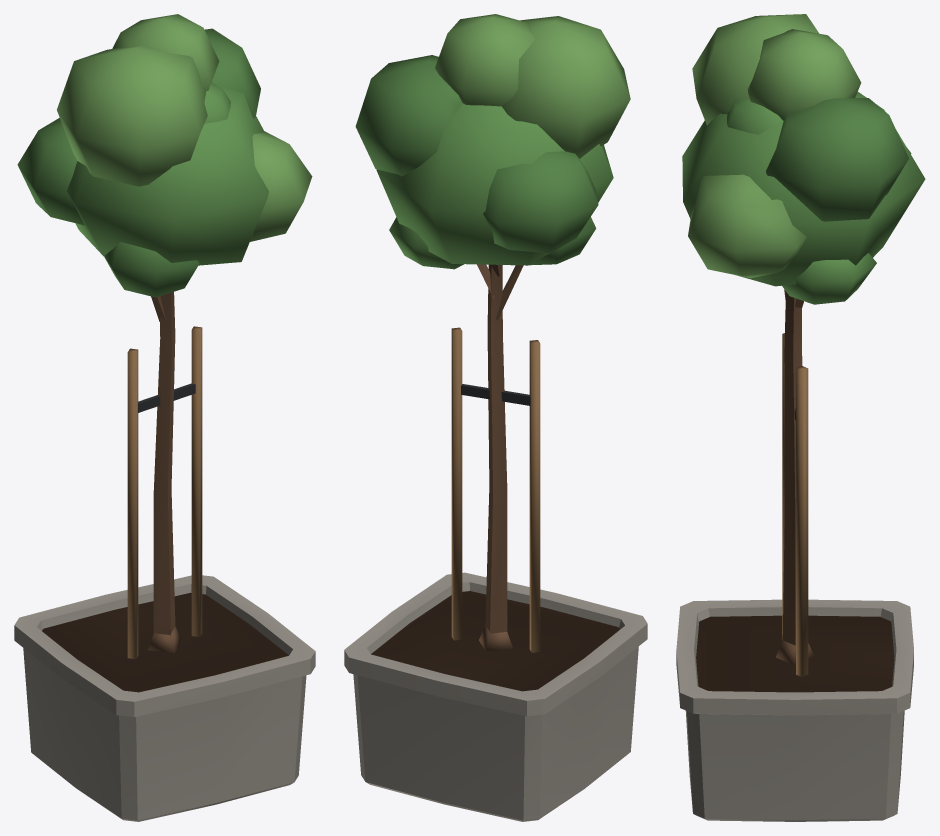
Rendered from planter.far.glb.
3 views of the same model, side by side, from view 1: azimuth 30°, elevation 25°; view 2: azimuth 150°, elevation 25°; view 3: azimuth 270°, elevation 25° (orthographic).
Parts seen in each view (by area): view 1: planter; view 2: planter; view 3: planter.
Part boxes in pixels (bbox=[...]): planter: bbox=[14, 14, 315, 821]; planter: bbox=[344, 14, 647, 821]; planter: bbox=[676, 14, 925, 821].
Size of the model in its own units: 0.7952 by 2.42 by 0.7338.
